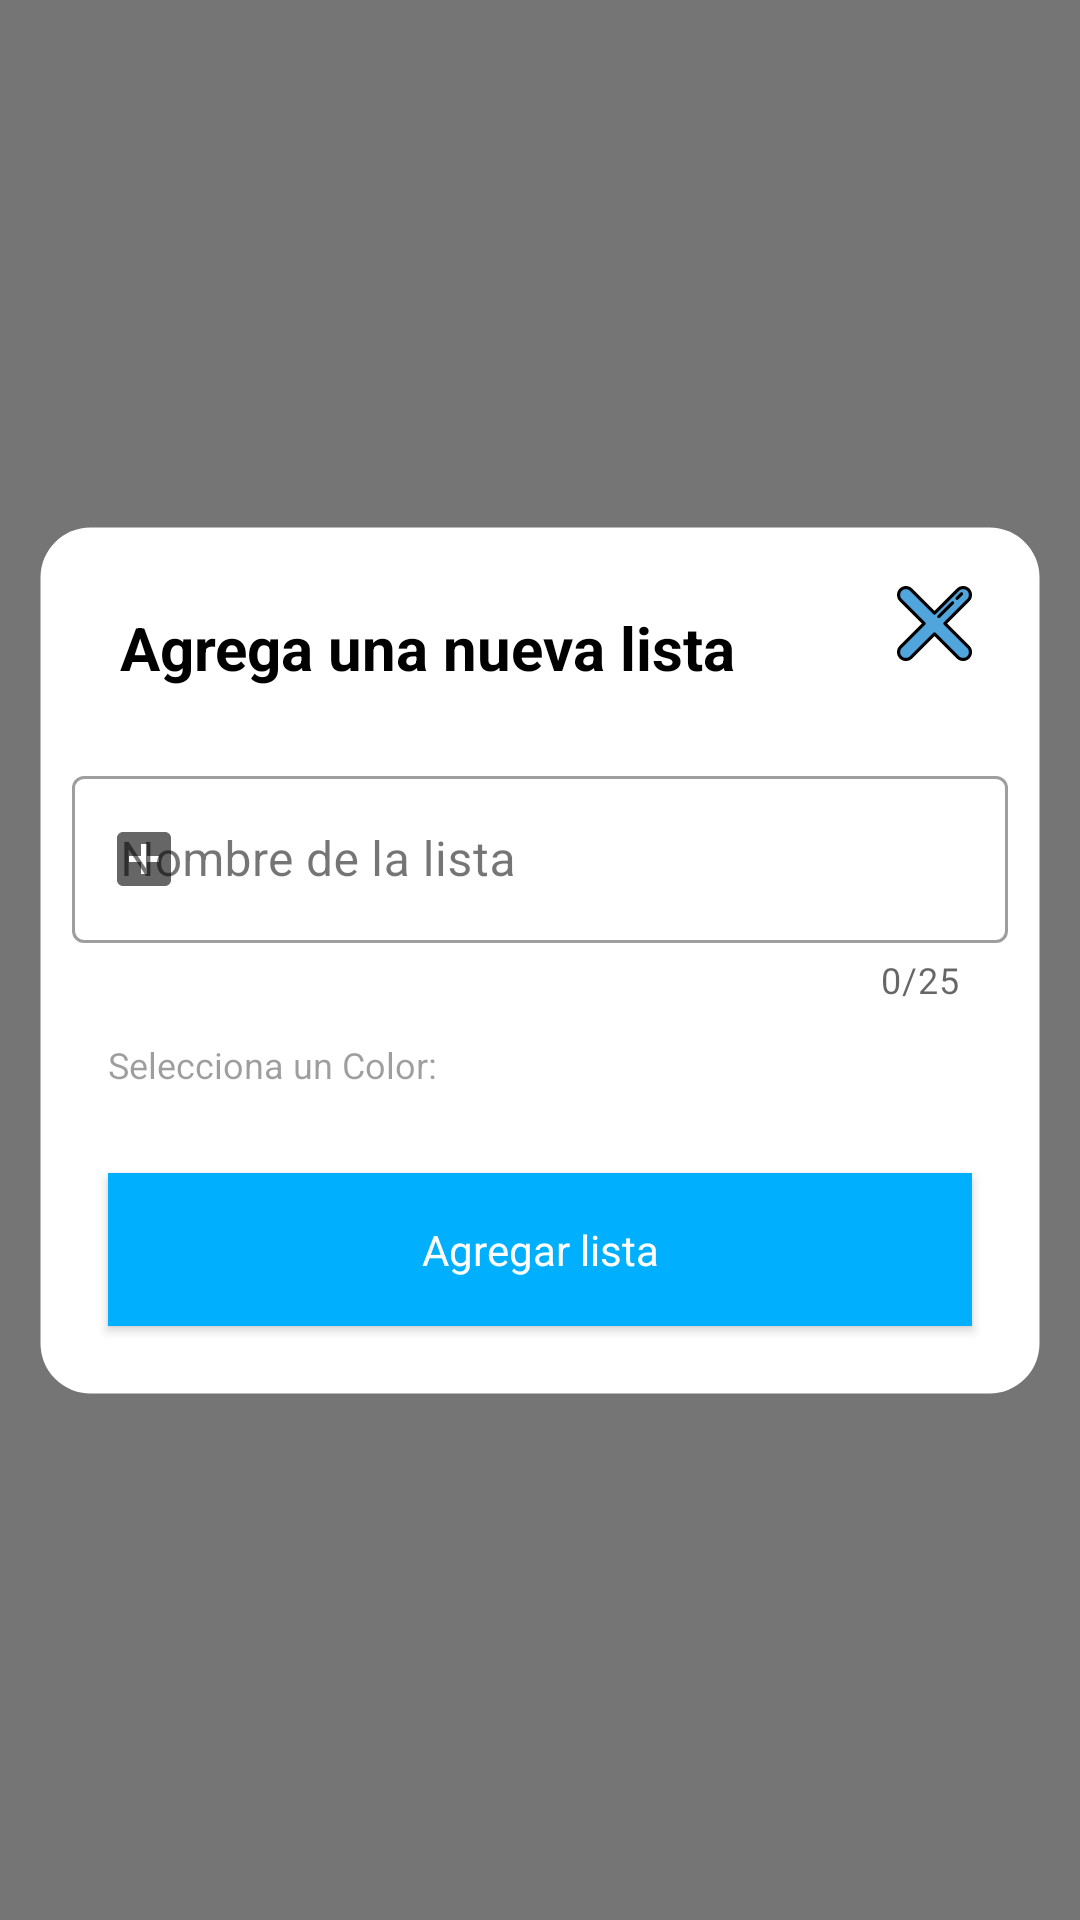

Icons on this 1080px x 1920px Android screen, each with its box as (x1, y1, x2, y2):
close menu: (897, 586, 972, 661)
